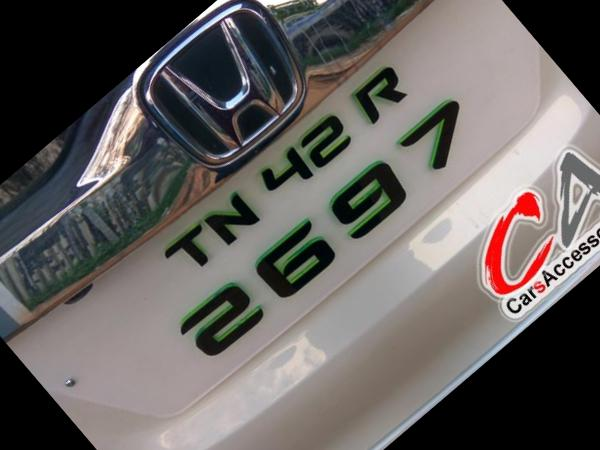plate: (94, 5, 534, 421)
